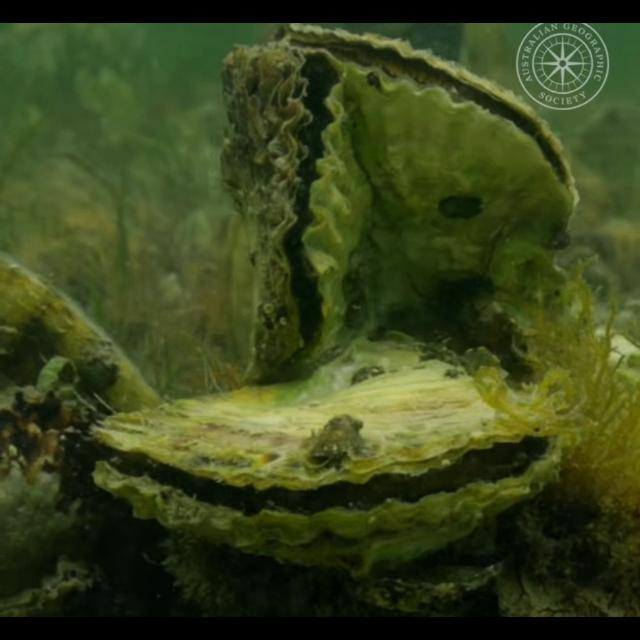Oyster-Closed: (0, 249, 164, 429)
Oyster-Open: (84, 333, 558, 583), (270, 24, 574, 352), (216, 44, 370, 390)
